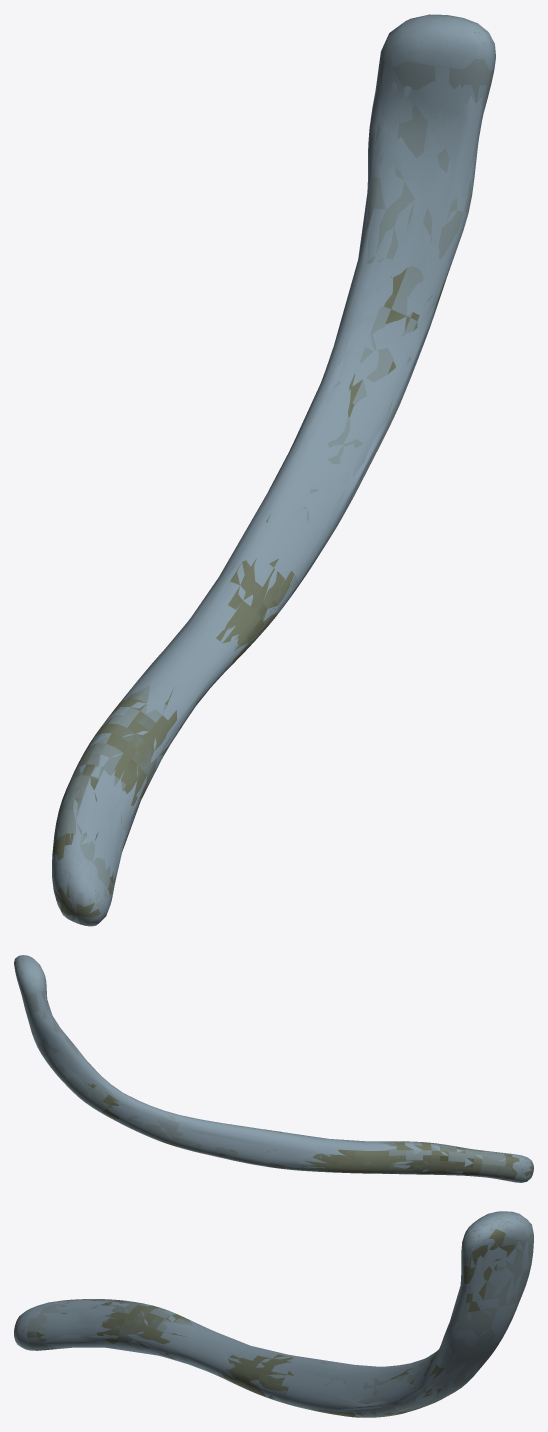
3 views of the same model, one above another, from view 1: azimuth 30°, elevation 25°; view 2: azimuth 150°, elevation 25°; view 3: azimuth 270°, elevation 25° (orthographic). The views are drawn at different scales.
Parts seen in each view (by area): view 1: CC L09, CC L09 low, CC L09 high; view 2: CC L09 high, CC L09, CC L09 low; view 3: CC L09, CC L09 high, CC L09 low.
Boxes of the visible parts, bbox=[...] form: CC L09: bbox=[52, 14, 495, 925]; CC L09 low: bbox=[82, 81, 483, 883]; CC L09 high: bbox=[52, 15, 495, 926]; CC L09 high: bbox=[14, 956, 533, 1181]; CC L09: bbox=[14, 955, 533, 1182]; CC L09 low: bbox=[44, 997, 499, 1179]; CC L09: bbox=[14, 1211, 533, 1416]; CC L09 high: bbox=[14, 1212, 533, 1417]; CC L09 low: bbox=[41, 1247, 516, 1410].
Bounding box in the file's own units: 15.26 × 10.15 × 12.78.
